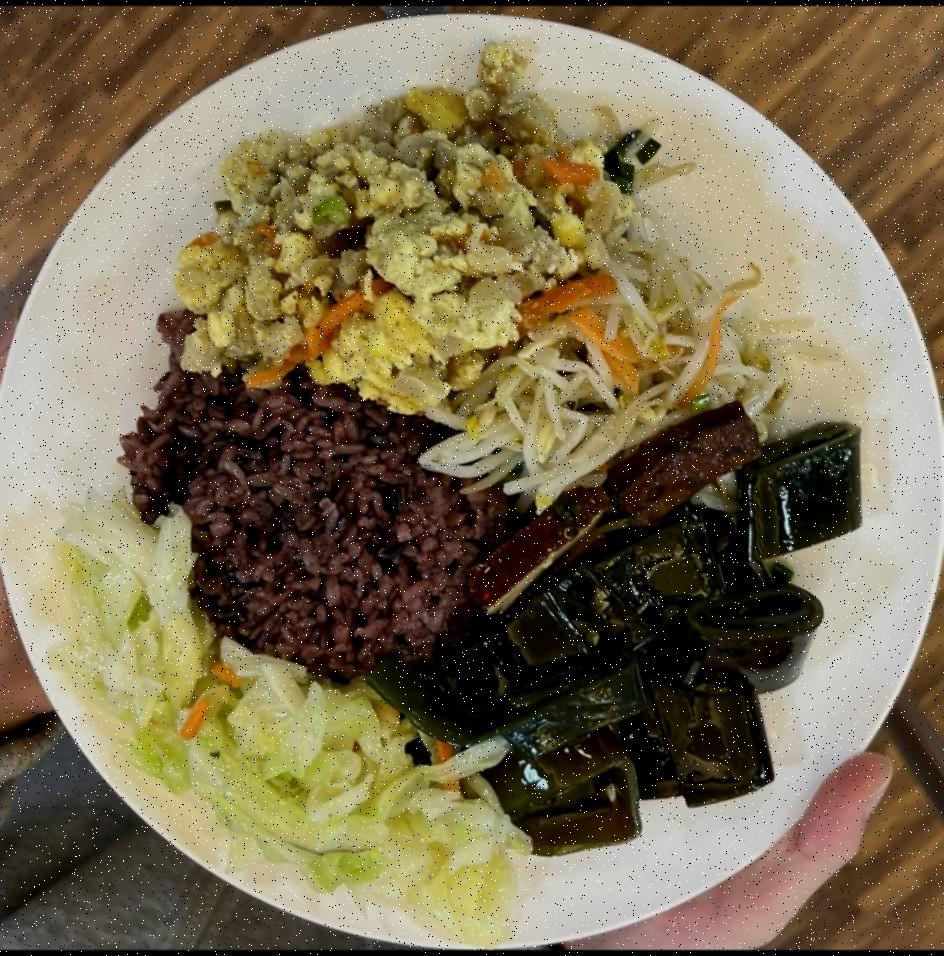plate: (0, 18, 944, 950)
purple rice: (130, 358, 482, 682)
side dish: (47, 496, 530, 938), (486, 426, 880, 855), (179, 80, 626, 390), (430, 254, 782, 502)
